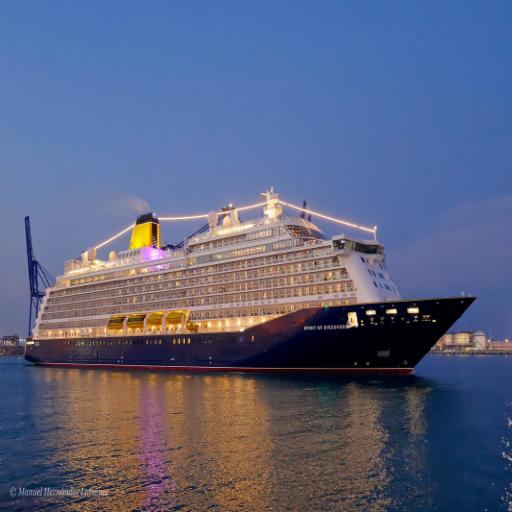cruises: (21, 187, 483, 387)
